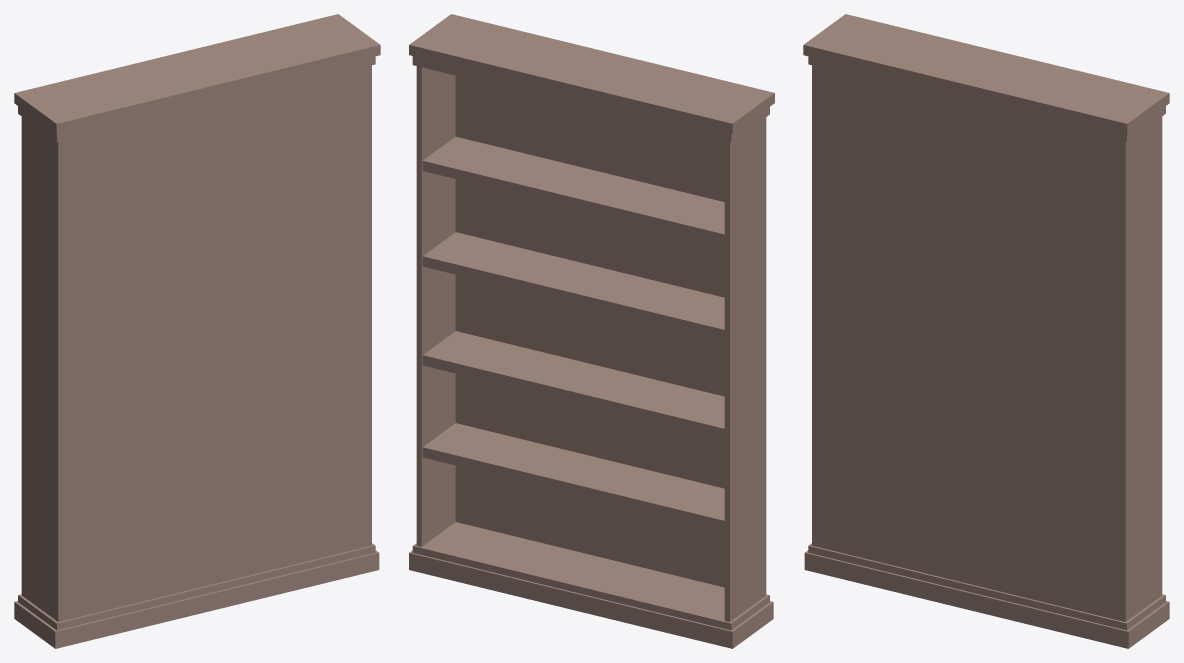
Rendered from bookshelf.glb.
3 renders of one model, left to right at view 1: azimuth 30°, elevation 25°; view 2: azimuth 150°, elevation 25°; view 3: azimuth 330°, elevation 25°, orthographic.
Visible parts, largest first — view 1: bookshelf.001; view 2: bookshelf.001; view 3: bookshelf.001.
Boxes of the visible parts, box(x1,y1,x2,y2) form: bookshelf.001: box(14, 14, 380, 648); bookshelf.001: box(409, 14, 774, 648); bookshelf.001: box(803, 14, 1169, 648).
Size of what is drawn, in the model's own units: 1.64 by 2.54 by 0.37.
